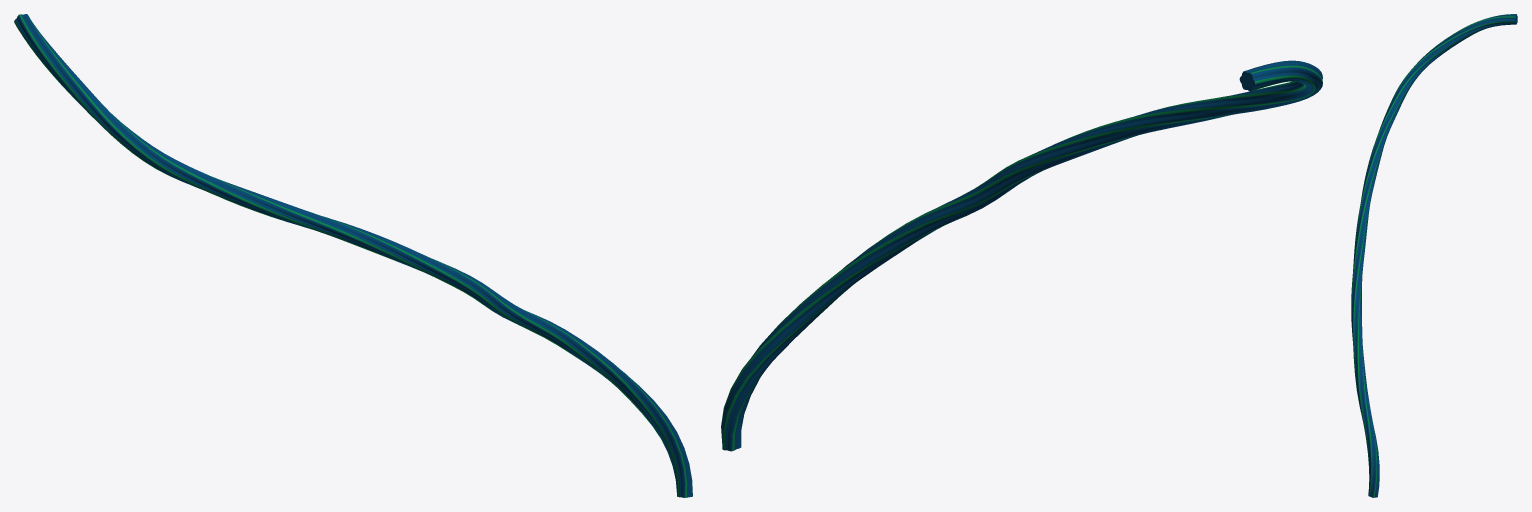
Rendered from cables 8.FBX.
The picture shows the model from 3 angles, left to right: view 1: azimuth 30°, elevation 25°; view 2: azimuth 150°, elevation 25°; view 3: azimuth 270°, elevation 25°; orthographic projection. The views are drawn at different scales.
Visible parts, largest first — view 1: nouveau cables 8; view 2: nouveau cables 8; view 3: nouveau cables 8.
Part boxes in pixels (<box>): nouveau cables 8: <box>14,14,692,497</box>; nouveau cables 8: <box>721,60,1322,451</box>; nouveau cables 8: <box>1351,14,1517,497</box>.
Size of the model in its own units: 633 by 568 by 268.
